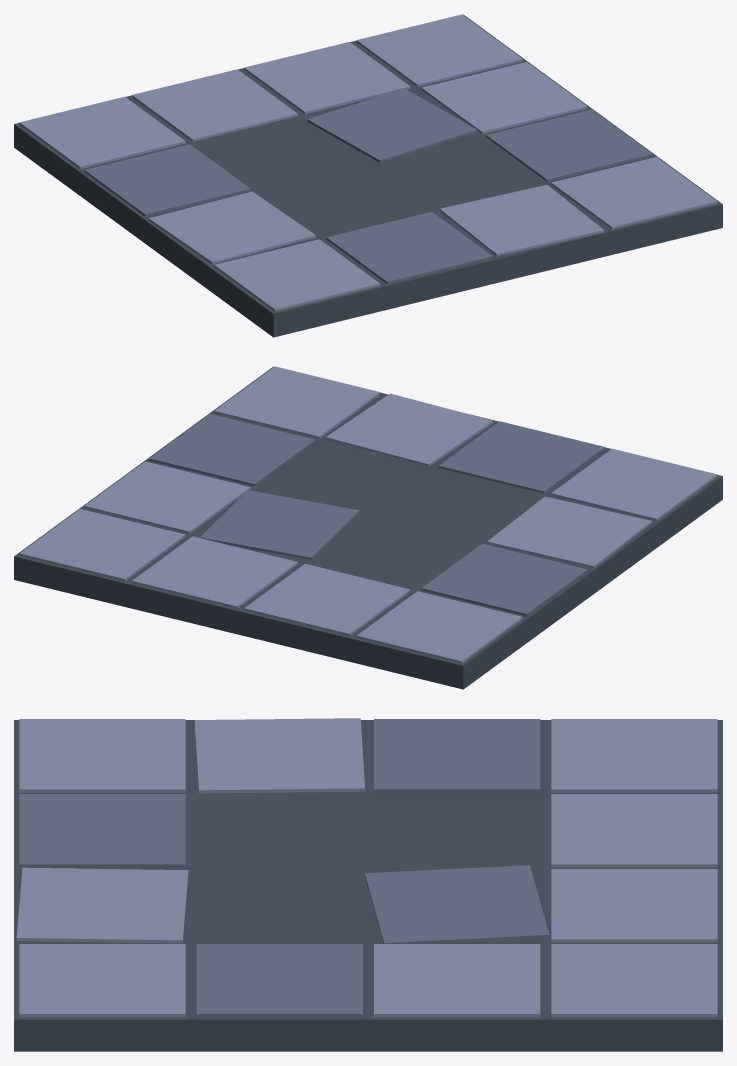
File: FloorTile03.fbx
3 views of the same model, one above another, from view 1: azimuth 30°, elevation 25°; view 2: azimuth 150°, elevation 25°; view 3: azimuth 270°, elevation 25° (orthographic). The views are drawn at different scales.
Parts seen in each view (by area): view 1: Tile03; view 2: Tile03; view 3: Tile03.
Boxes of the visible parts, x1,y1,x2,y2 form: Tile03: (14, 14, 722, 337); Tile03: (14, 366, 722, 689); Tile03: (14, 718, 722, 1051).
Bounding box in the file's own units: 2 × 0.1101 × 2.
